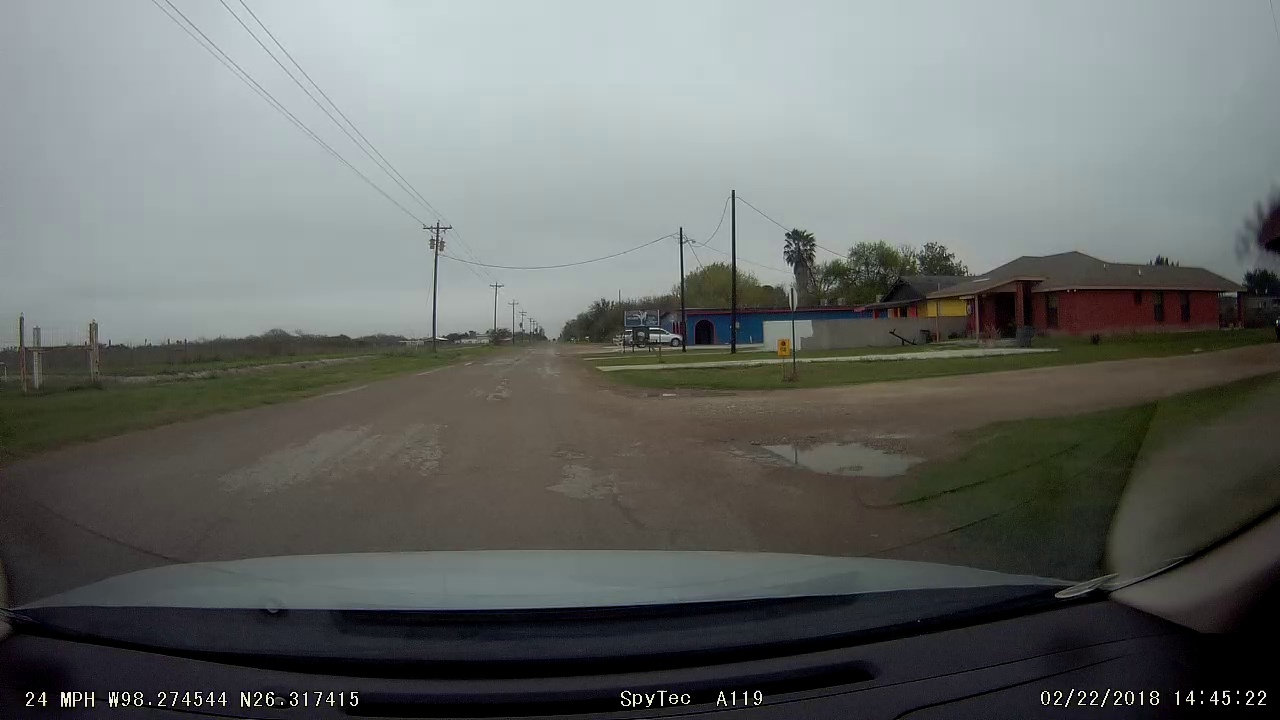alligatorCrack: (402, 436, 457, 477), (555, 444, 597, 481)
pothole: (747, 427, 930, 486)
